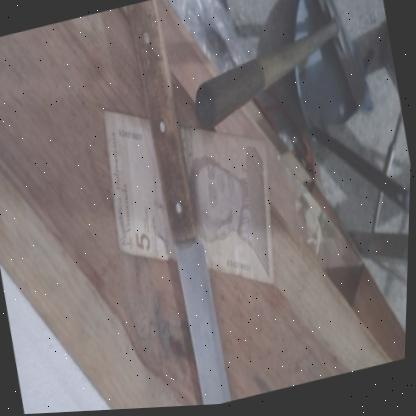five-front-vef: (92, 73, 296, 323)
